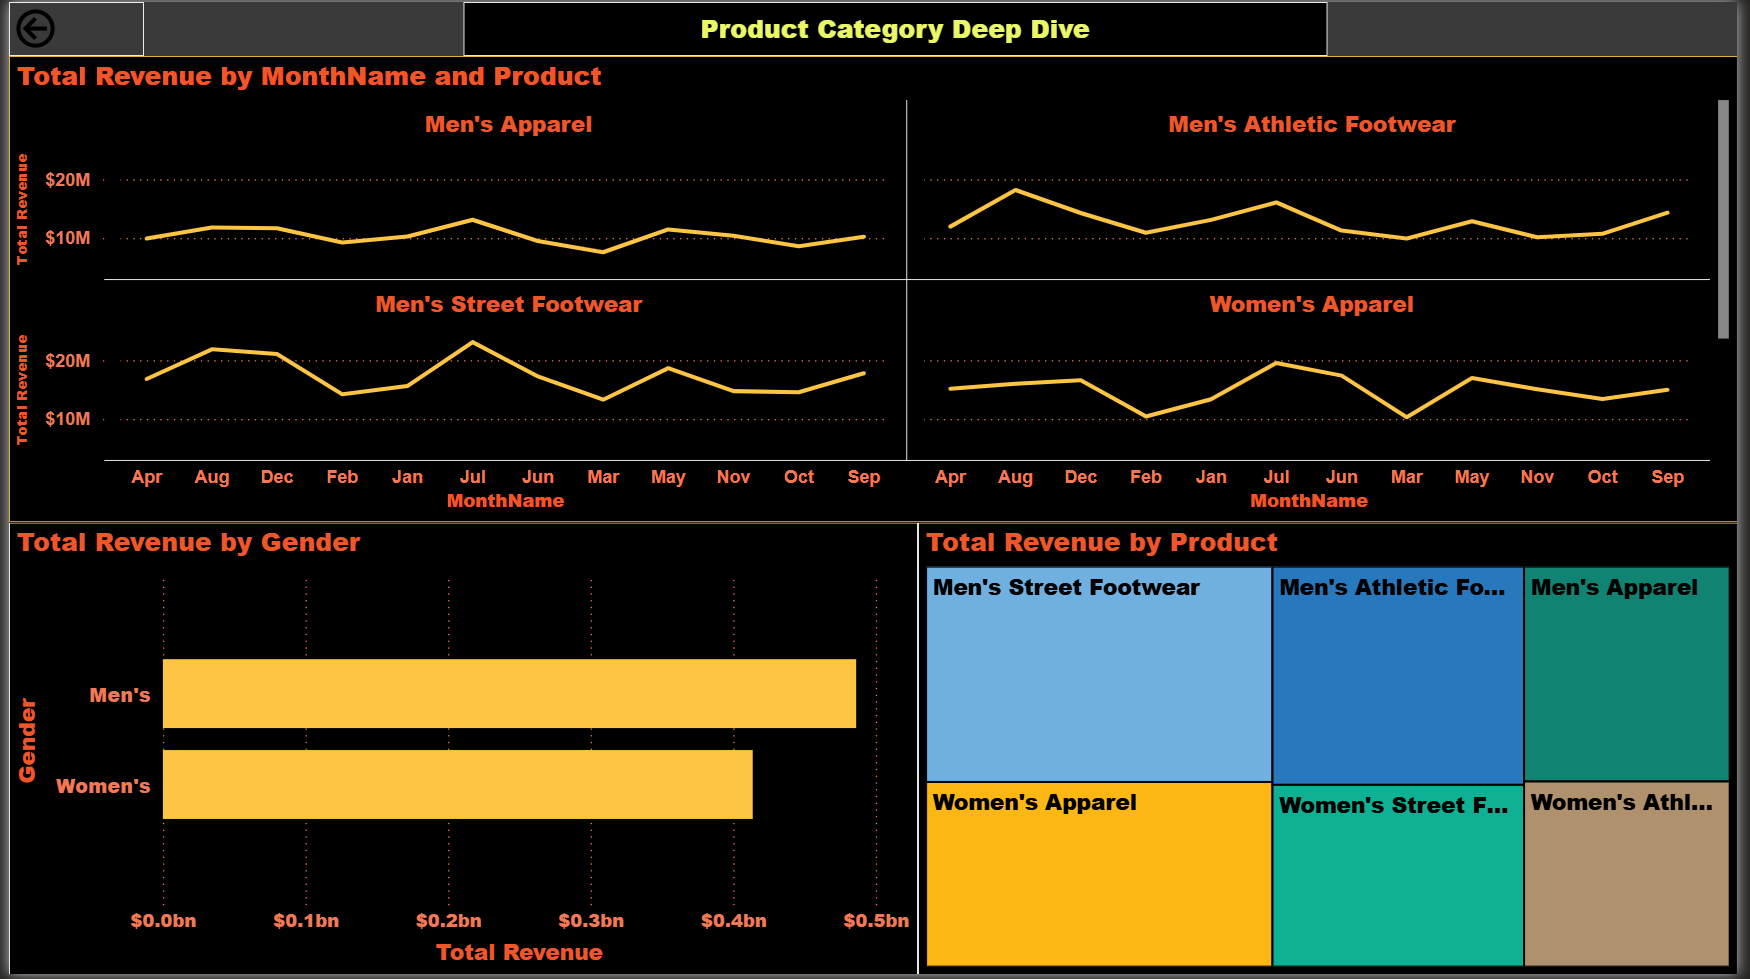

The page's visual inventory and layout, read from the dashboard file:
{"tool":"powerbi","page":{"name":"Product Category Deep Dive","canvas":[1280,720],"ordinal":3},"visuals":[{"type":"treemap","fields":{"Group":["Data Sales Adidas.Product"],"Values":["_Measures.Total Revenue"]},"box":[673.1,385.4,607.3,335],"z":0},{"type":"clusteredBarChart","fields":{"Category":["Data Sales Adidas.Gender","Data Sales Adidas.ProductType","Data Sales Adidas.Product"],"Y":["_Measures.Total Revenue"]},"box":[0,385.4,673.1,335],"z":1000},{"type":"lineChart","fields":{"Category":["Date.MonthName"],"Y":["_Measures.Total Revenue"],"Rows":["Data Sales Adidas.Product"]},"box":[0,40.1,1280.4,345.3],"z":2000},{"type":"actionButton","box":[0,0,100,40],"z":5000},{"type":"textbox","box":[337.1,0,640.2,40.1],"z":5001}]}

Visuals, with their boxes in screenshot pixels (x1, y1, x2, y2), scaled from the page's 1280x720 canvas onto the 1750x979 screenshot:
treemap - Data Sales Adidas.Product x _Measures.Total Revenue: 920:524:1749:978
clusteredBarChart - Data Sales Adidas.Gender x Data Sales Adidas.ProductType: 0:524:920:978
lineChart - Date.MonthName x _Measures.Total Revenue: 0:55:1749:524
actionButton: 0:0:137:54
textbox: 461:0:1336:55
